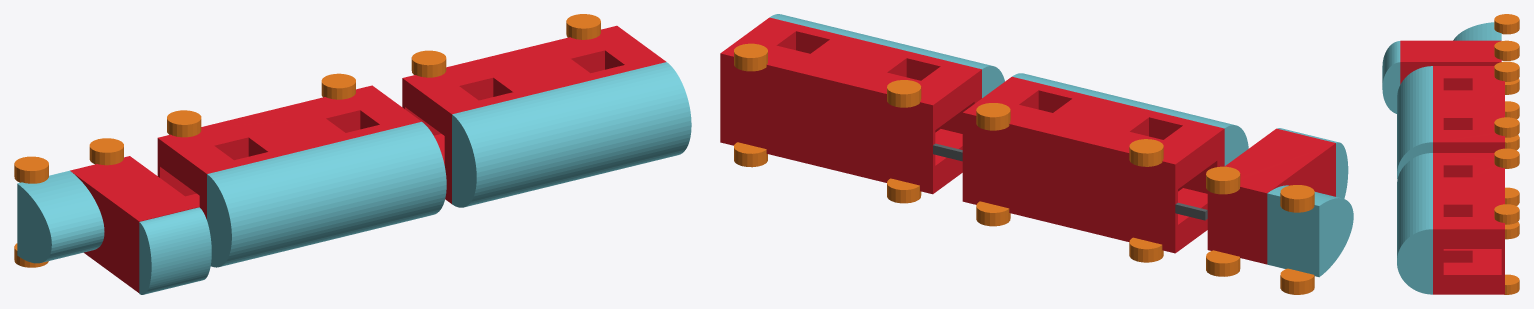
File: tinker.obj
3 renders of one model, left to right at view 1: azimuth 30°, elevation 25°; view 2: azimuth 150°, elevation 25°; view 3: azimuth 270°, elevation 25°, orthographic. The views are drawn at different scales.
Parts seen in each view (by area): view 1: group_0_7720667, group_0_15277357, group_0_16089887; view 2: group_0_15277357, group_0_7720667, group_0_16089887, group_0_6383466; view 3: group_0_15277357, group_0_7720667, group_0_16089887.
Boxes of the visible parts, x1,y1,x2,y2 form: group_0_7720667: (17, 62, 691, 294); group_0_15277357: (70, 25, 666, 292); group_0_16089887: (14, 14, 600, 267); group_0_15277357: (720, 17, 1335, 264); group_0_7720667: (769, 14, 1353, 277); group_0_16089887: (734, 43, 1314, 294); group_0_6383466: (933, 143, 1207, 220); group_0_15277357: (1400, 40, 1504, 294); group_0_7720667: (1382, 22, 1501, 294); group_0_16089887: (1494, 14, 1519, 294).
Bounding box in the file's own units: 140 × 24.75 × 38.
